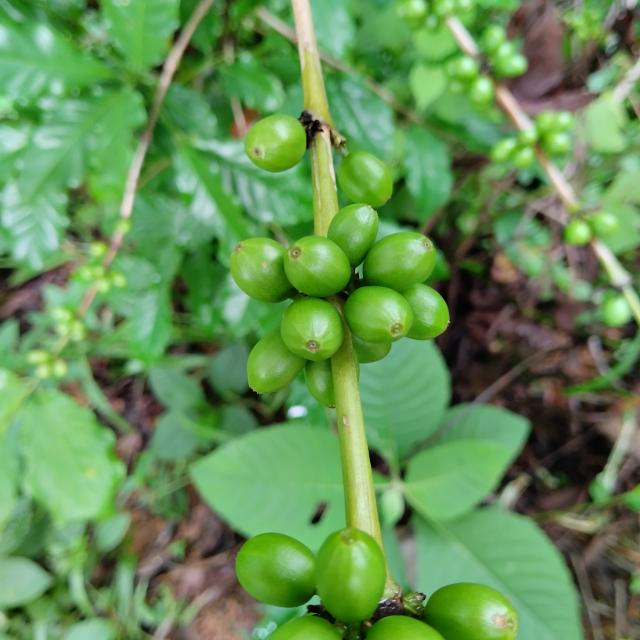green: (315, 529, 386, 623), (236, 534, 316, 609), (424, 584, 520, 640), (363, 232, 436, 292), (230, 238, 296, 303), (284, 235, 351, 297), (281, 296, 344, 361), (247, 327, 306, 394), (344, 286, 413, 343), (244, 114, 306, 172), (328, 203, 379, 268), (338, 151, 393, 207), (400, 284, 450, 340), (304, 359, 335, 408), (352, 334, 392, 364)
